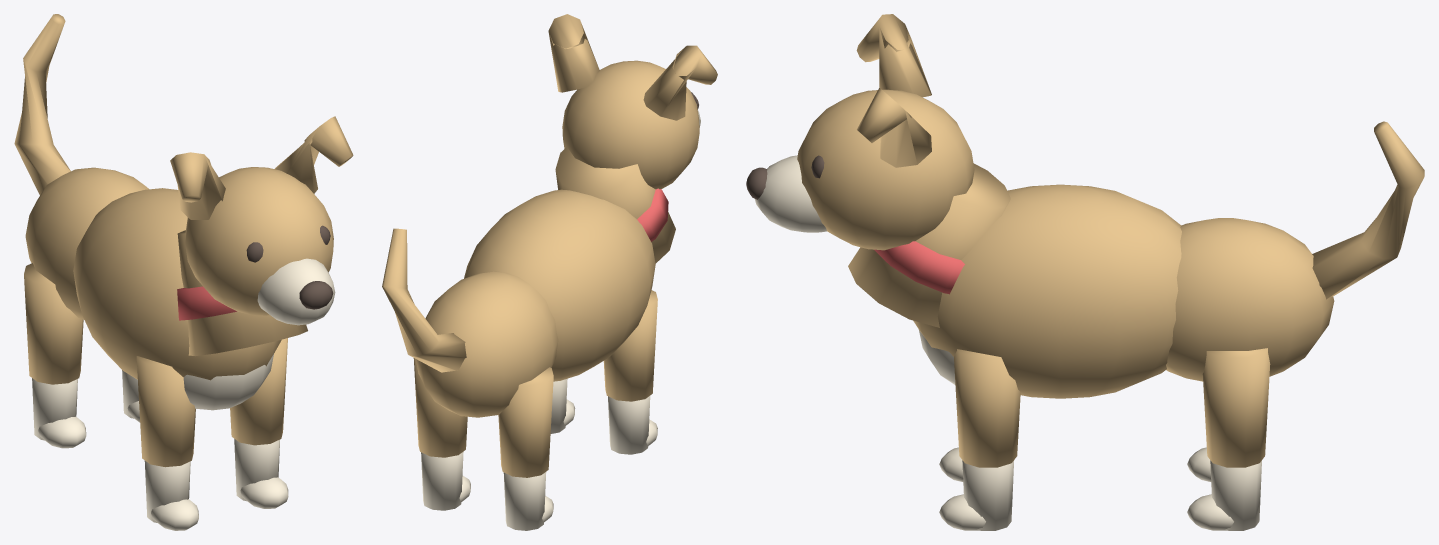
The model's file is askal.glb.
The picture shows the model from 3 angles, left to right: view 1: azimuth 30°, elevation 25°; view 2: azimuth 150°, elevation 25°; view 3: azimuth 270°, elevation 25°; orthographic projection. The views are drawn at different scales.
Visible parts, largest first — view 1: Batch_AskalFur, Batch_AskalCream, Batch_AskalCollar, Batch_AskalDark; view 2: Batch_AskalFur, Batch_AskalCream, Batch_AskalCollar; view 3: Batch_AskalFur, Batch_AskalCream, Batch_AskalCollar.
Part boxes in pixels (x1,y1,x2,y2): Batch_AskalFur: (14, 14, 353, 467); Batch_AskalCream: (32, 258, 335, 530); Batch_AskalCollar: (177, 286, 236, 320); Batch_AskalDark: (246, 225, 333, 309); Batch_AskalFur: (382, 14, 717, 477); Batch_AskalCream: (421, 110, 700, 530); Batch_AskalCollar: (637, 188, 668, 241); Batch_AskalFur: (797, 14, 1424, 467); Batch_AskalCream: (755, 155, 1261, 530); Batch_AskalCollar: (874, 241, 964, 294).
Bounding box in the file's own units: 0.4158 × 0.9651 × 1.31.
